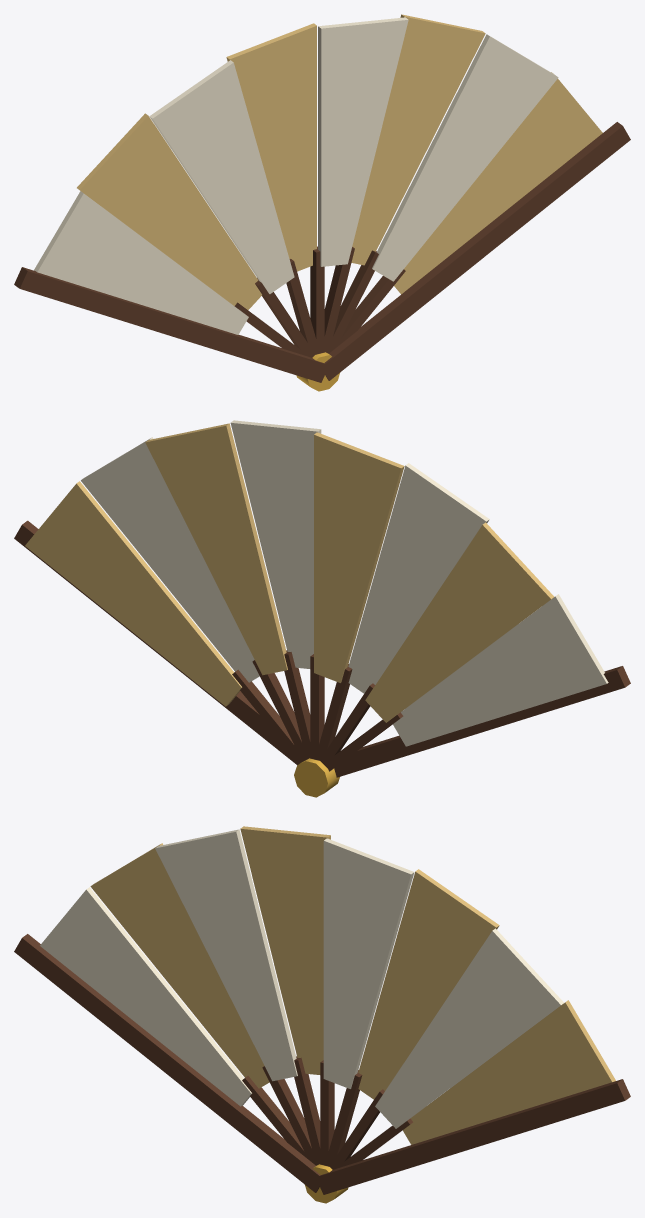
The model's file is folding_fan.glb.
3 renders of one model, top to bottom at view 1: azimuth 30°, elevation 25°; view 2: azimuth 150°, elevation 25°; view 3: azimuth 330°, elevation 25°, orthographic.
Visible parts, largest first — view 1: folding_fan; view 2: folding_fan; view 3: folding_fan.
Part boxes in pixels (box(x1,y1,x2,y2)): folding_fan: box(14, 14, 630, 391); folding_fan: box(14, 420, 630, 797); folding_fan: box(14, 826, 630, 1203).
Bounding box in the file's own units: 0.4294 × 0.2414 × 0.0175.
